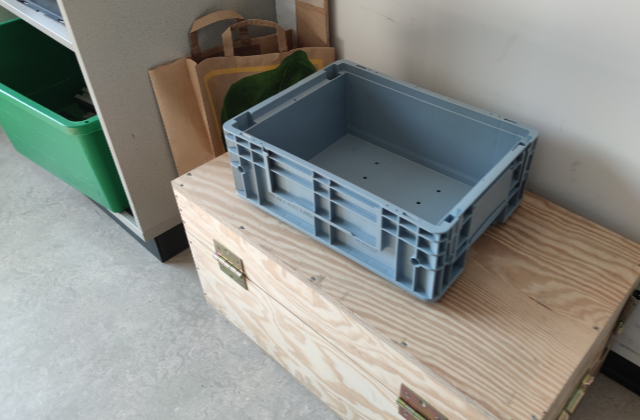Box: (220, 57, 540, 304)
